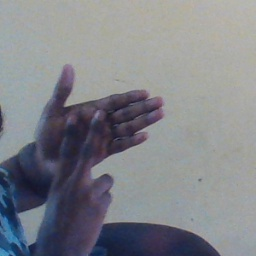N: (32, 60, 172, 213)
